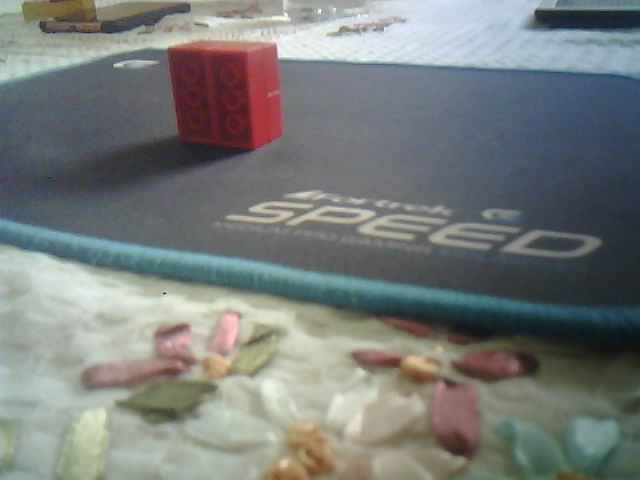lego: (165, 39, 282, 150)
